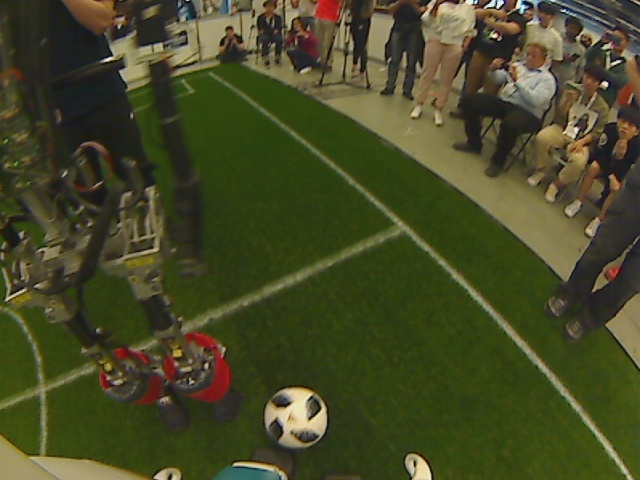ball: (261, 386, 330, 449)
